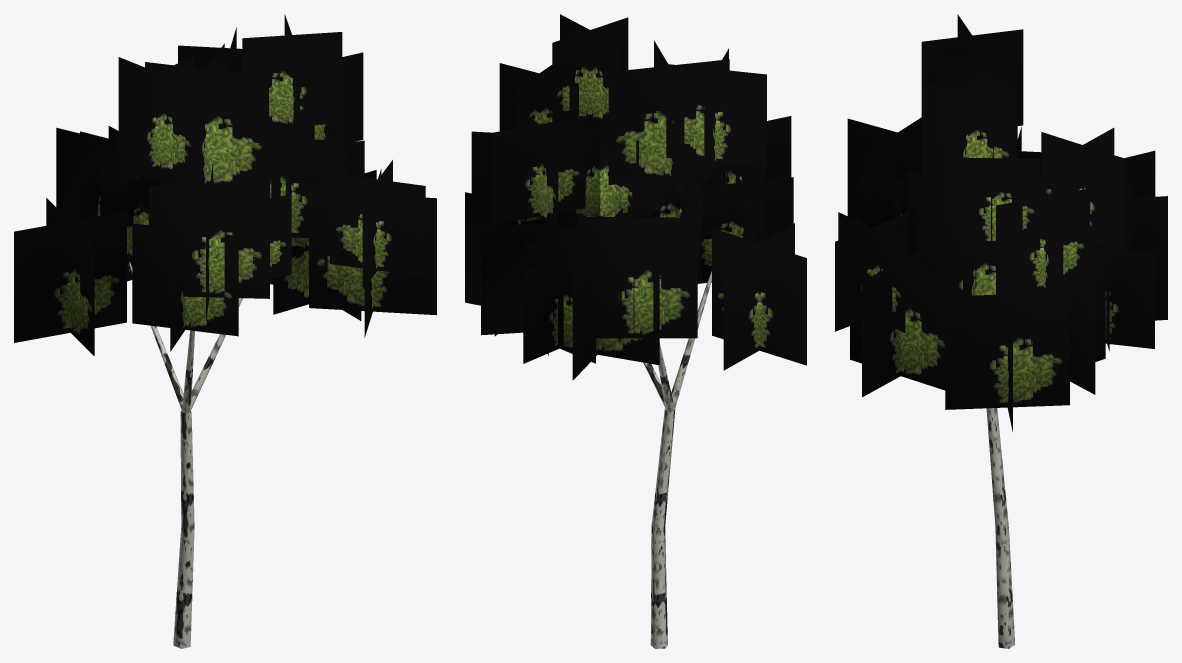
The model's file is birch1_lod1.fbx.
3 views of the same model, side by side, from view 1: azimuth 30°, elevation 25°; view 2: azimuth 150°, elevation 25°; view 3: azimuth 270°, elevation 25° (orthographic). The views are drawn at different scales.
Visible parts, largest first — view 1: birch1_lod1; view 2: birch1_lod1; view 3: birch1_lod1.
Part boxes in pixels (box(x1,y1,x2,y2)): birch1_lod1: box(14, 14, 436, 648); birch1_lod1: box(465, 14, 806, 648); birch1_lod1: box(835, 14, 1167, 648).
Size of the model in its own units: 9.19 by 14.75 by 7.47.
2 materials, 2 textured.
